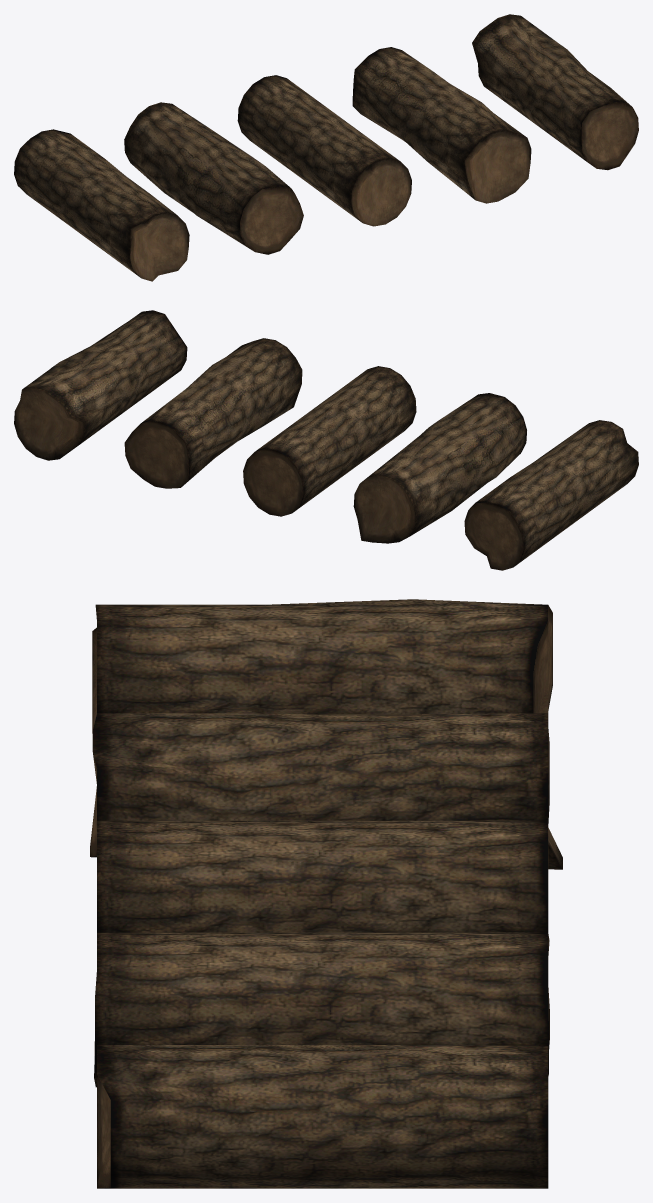
The model's file is WoodChops.fbx.
3 renders of one model, top to bottom at view 1: azimuth 30°, elevation 25°; view 2: azimuth 150°, elevation 25°; view 3: azimuth 270°, elevation 25°, orthographic. The views are drawn at different scales.
Parts seen in each view (by area): view 1: WoodChops5, WoodChops3, WoodChops2, WoodChops6, WoodChops4; view 2: WoodChops3, WoodChops5, WoodChops6, WoodChops2, WoodChops4; view 3: WoodChops6, WoodChops5, WoodChops2, WoodChops4, WoodChops3.
Boxes of the visible parts, x1,y1,x2,y2 form: WoodChops5: (352,47,531,203); WoodChops3: (124,102,303,254); WoodChops2: (14,129,189,281); WoodChops6: (472,14,638,170); WoodChops4: (237,75,411,226); WoodChops3: (353,393,526,543); WoodChops5: (124,338,302,488); WoodChops6: (14,310,187,460); WoodChops2: (464,420,638,570); WoodChops4: (243,366,416,516); WoodChops6: (97,1045,548,1188); WoodChops5: (94,932,549,1087); WoodChops2: (92,599,552,733); WoodChops4: (97,820,548,932); WoodChops3: (90,713,562,869).
Bounding box in the file's own units: 76.45 × 10.24 × 30.13.
